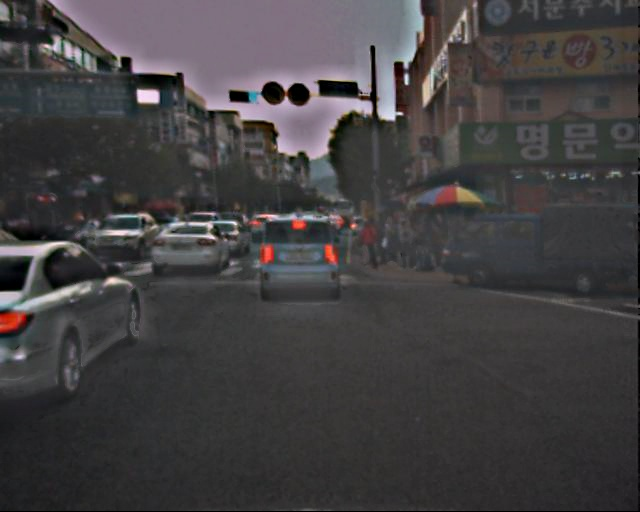person: (362, 210, 446, 266)
